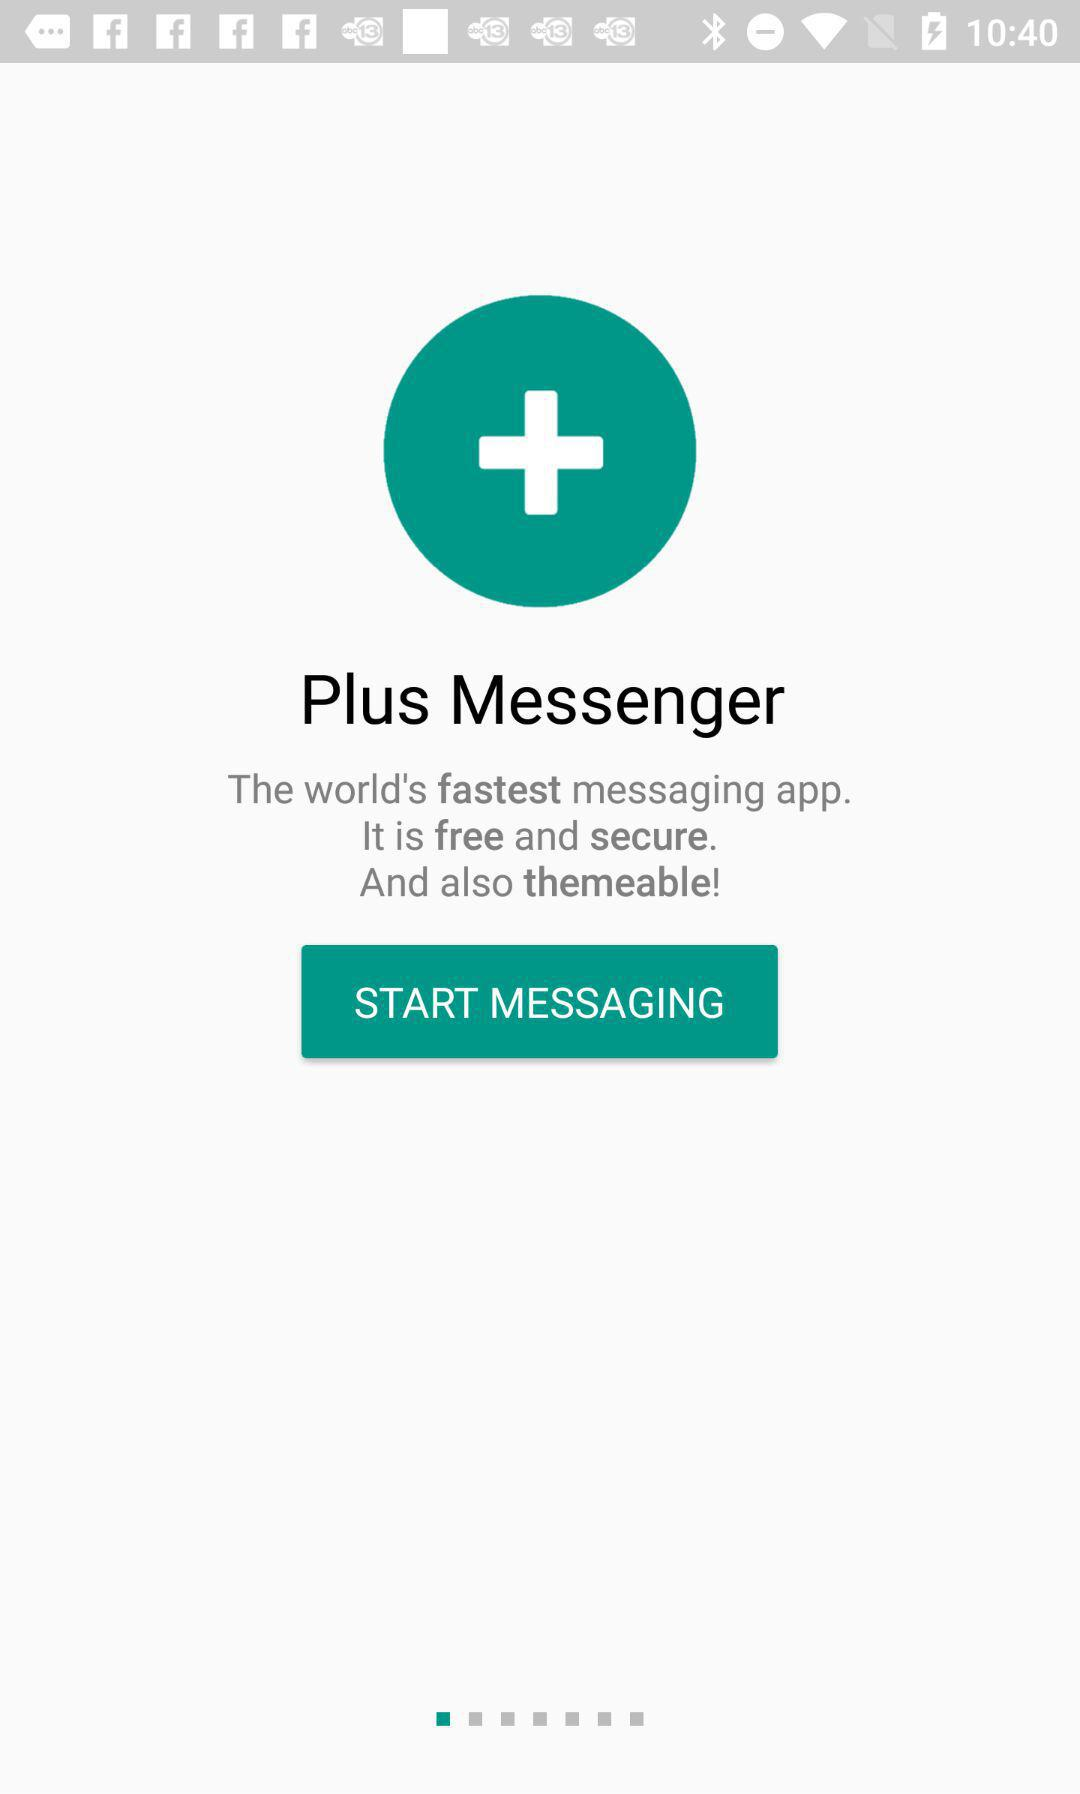Icon: (383, 295, 698, 609)
PageIndicator: (436, 1711, 644, 1727)
Text: (227, 771, 851, 900), (304, 671, 787, 739)
TextButton: (302, 944, 779, 1058)
UpperTaskBar: (1, 1, 1080, 64)
